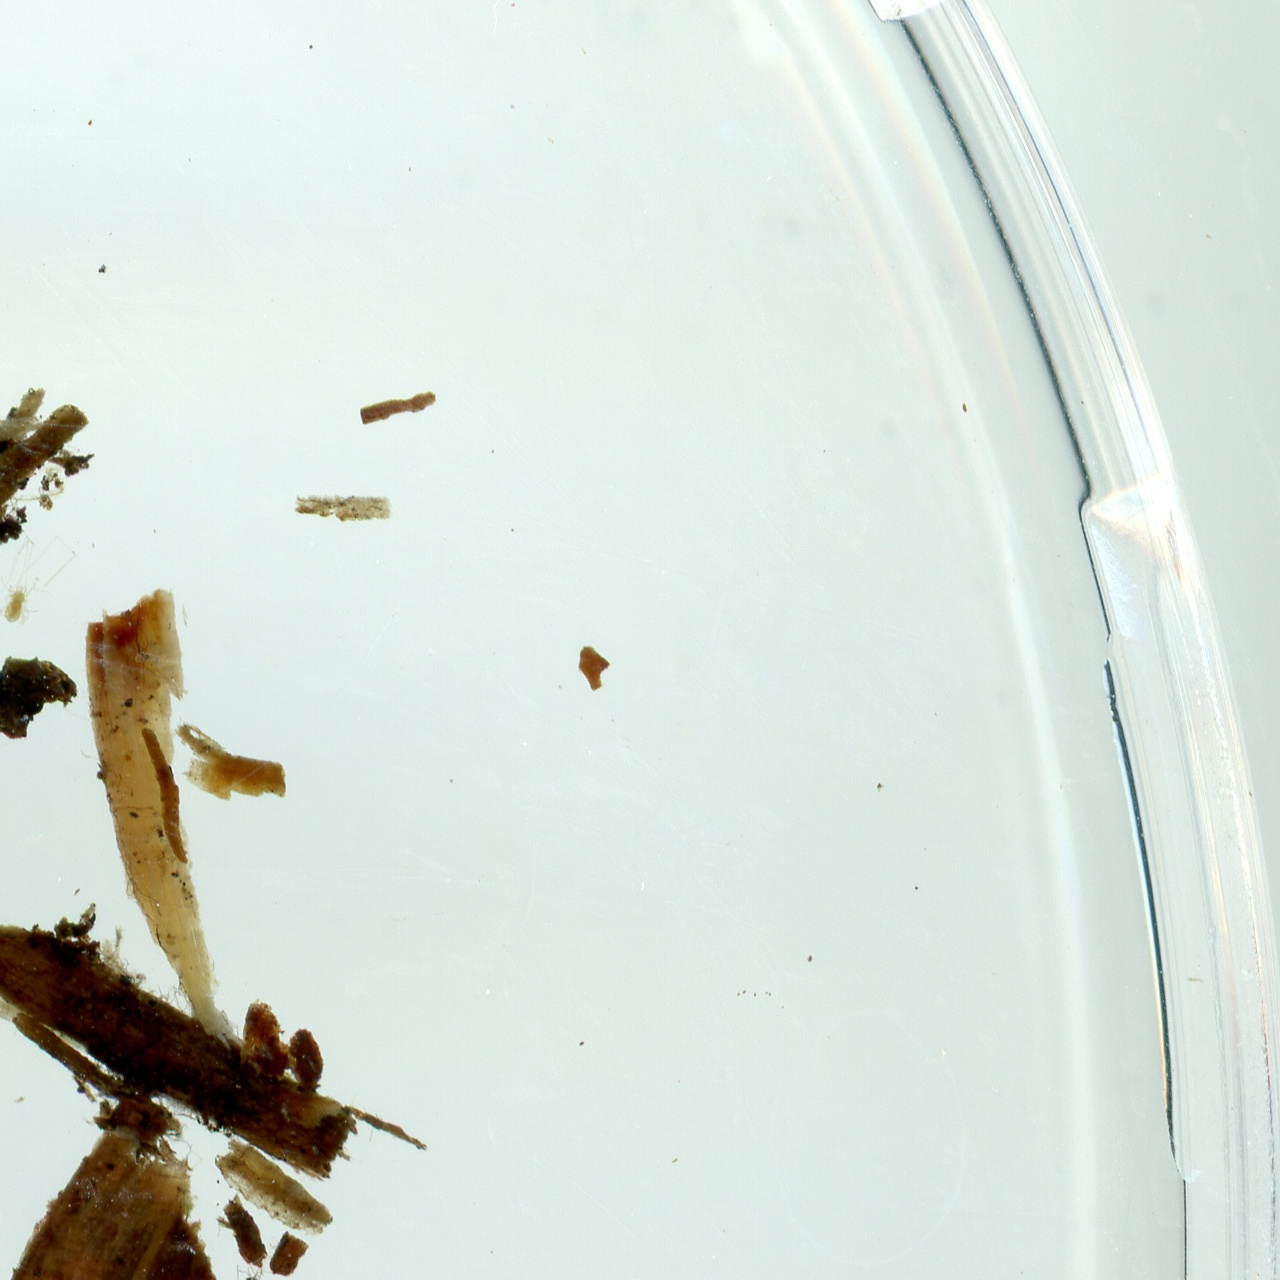arthropod: (0, 531, 82, 633)
